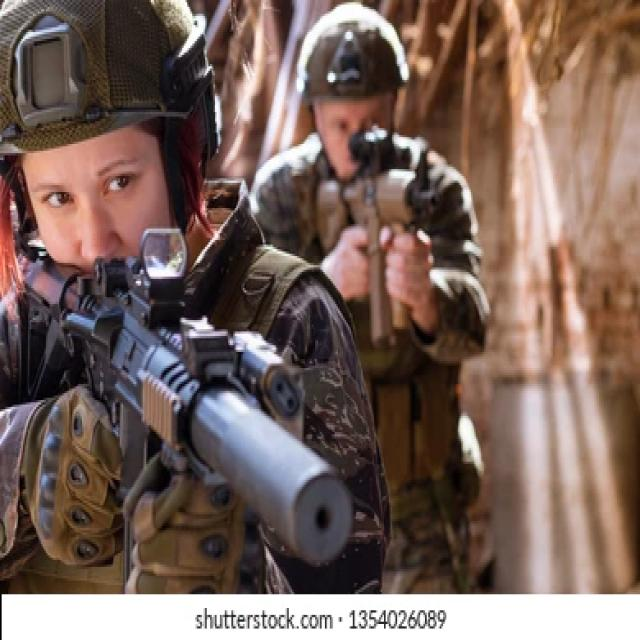soldier: (269, 4, 541, 598), (1, 1, 271, 595)
